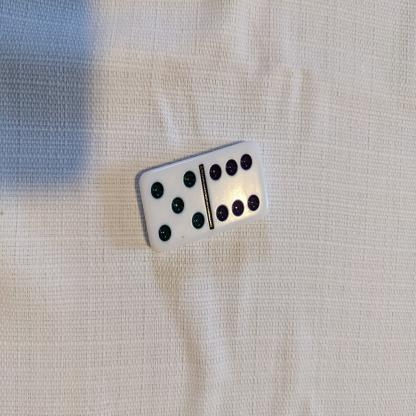pip-5: (139, 165, 204, 252)
pip-6: (206, 140, 268, 230)
